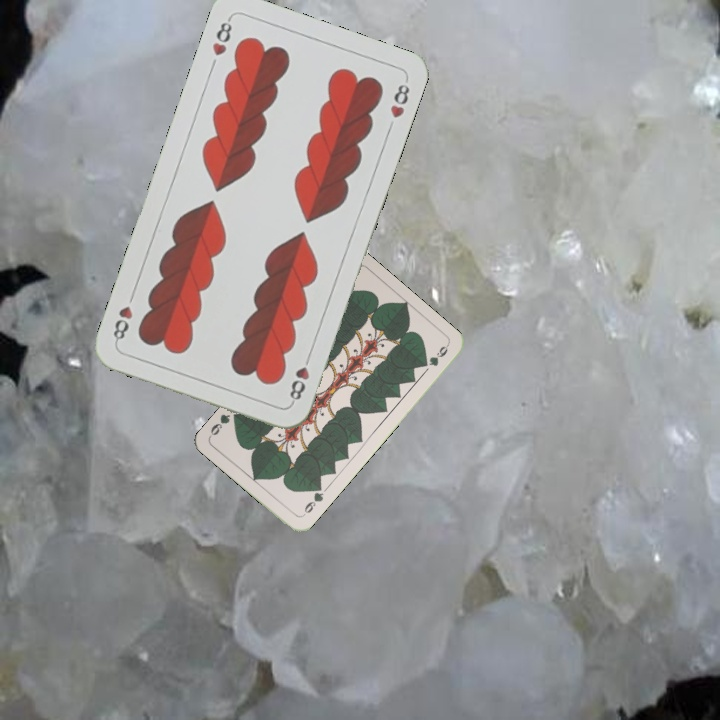G9: (298, 481, 326, 519)
H8: (285, 349, 314, 406), (208, 14, 235, 59)
